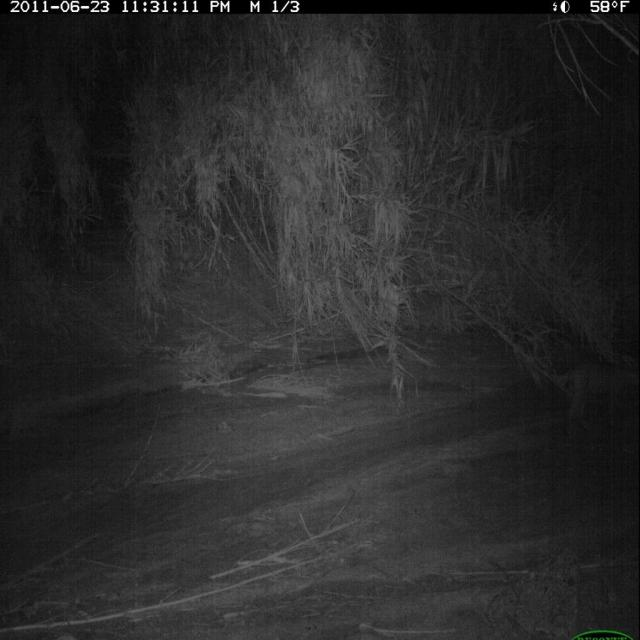bobcat: (547, 328, 640, 448)
